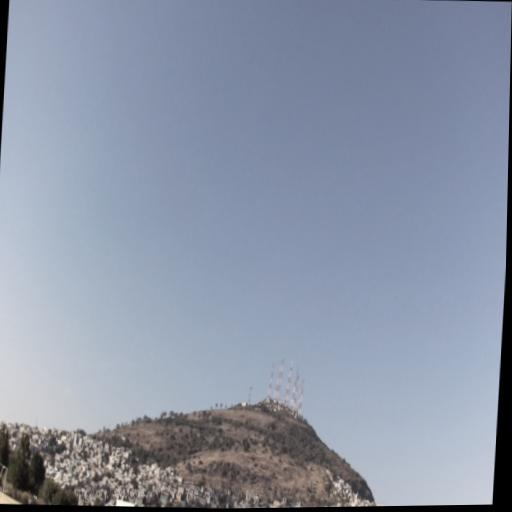drones: (277, 424, 282, 431)
